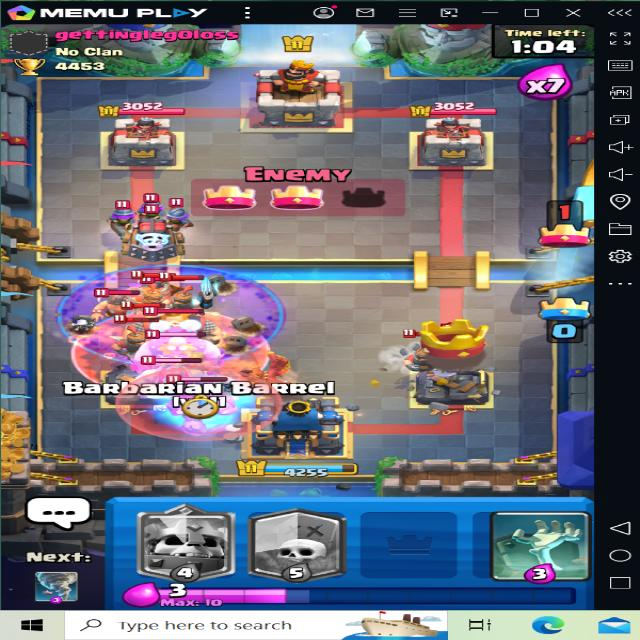electro-barbarians: (84, 286, 140, 318)
electro-giant: (132, 326, 218, 369)
goblin-giant: (135, 348, 225, 399)
golem: (155, 380, 241, 433)
musketeer: (159, 197, 201, 234), (137, 188, 173, 225), (105, 194, 143, 226)
royal-giant: (132, 306, 228, 345)
royal-recruits: (403, 340, 447, 378), (163, 276, 208, 312)
sparky: (124, 206, 193, 262)
